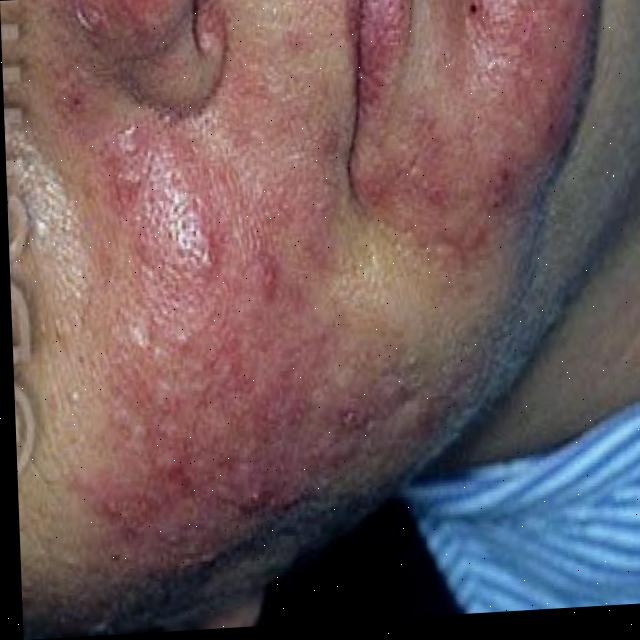Rosacea: (70, 163, 410, 541), (435, 0, 596, 203)
